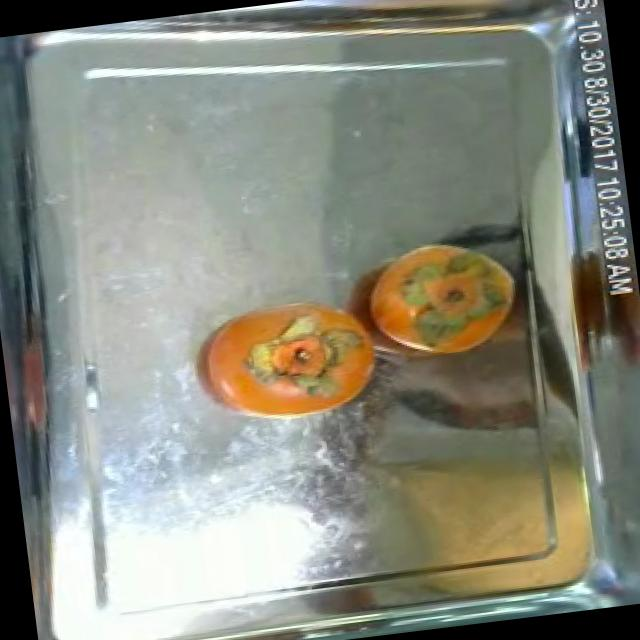Fruit: (354, 410, 588, 582), (348, 220, 531, 371), (381, 322, 560, 446)
